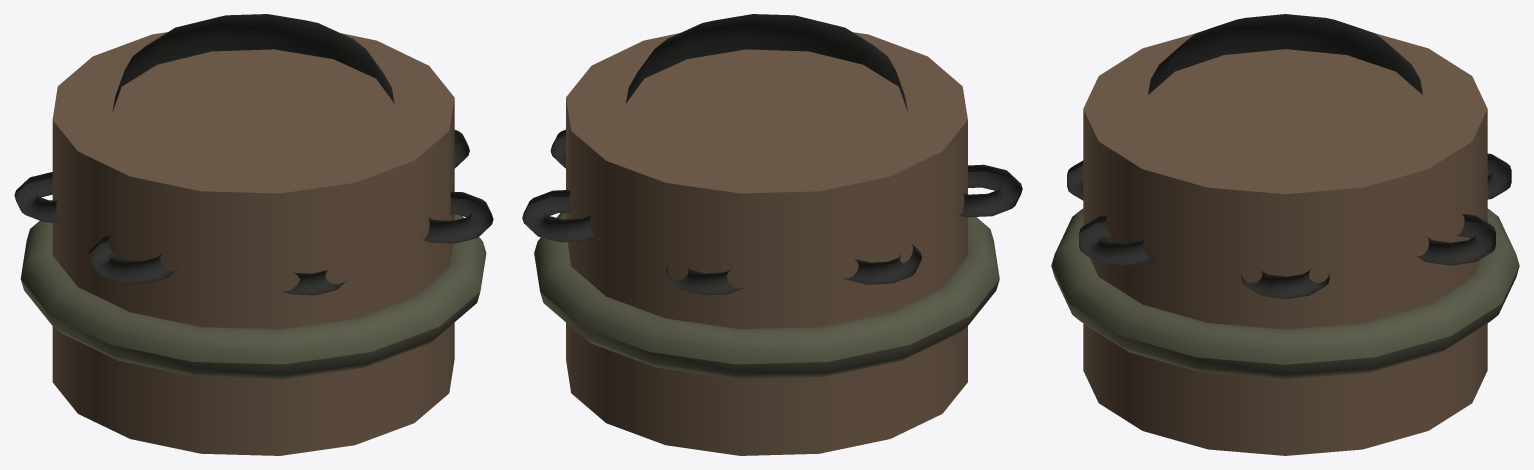
Rendered from ring_mail.obj.
The picture shows the model from 3 angles, left to right: view 1: azimuth 30°, elevation 25°; view 2: azimuth 150°, elevation 25°; view 3: azimuth 270°, elevation 25°; orthographic projection.
Parts seen in each view (by area): view 1: ring_mail; view 2: ring_mail; view 3: ring_mail.
Boxes of the visible parts, bbox=[...] form: ring_mail: bbox=[14, 14, 493, 455]; ring_mail: bbox=[522, 14, 1022, 455]; ring_mail: bbox=[1051, 14, 1519, 455].
Size of the model in its own units: 1.49 by 1.12 by 1.46.
